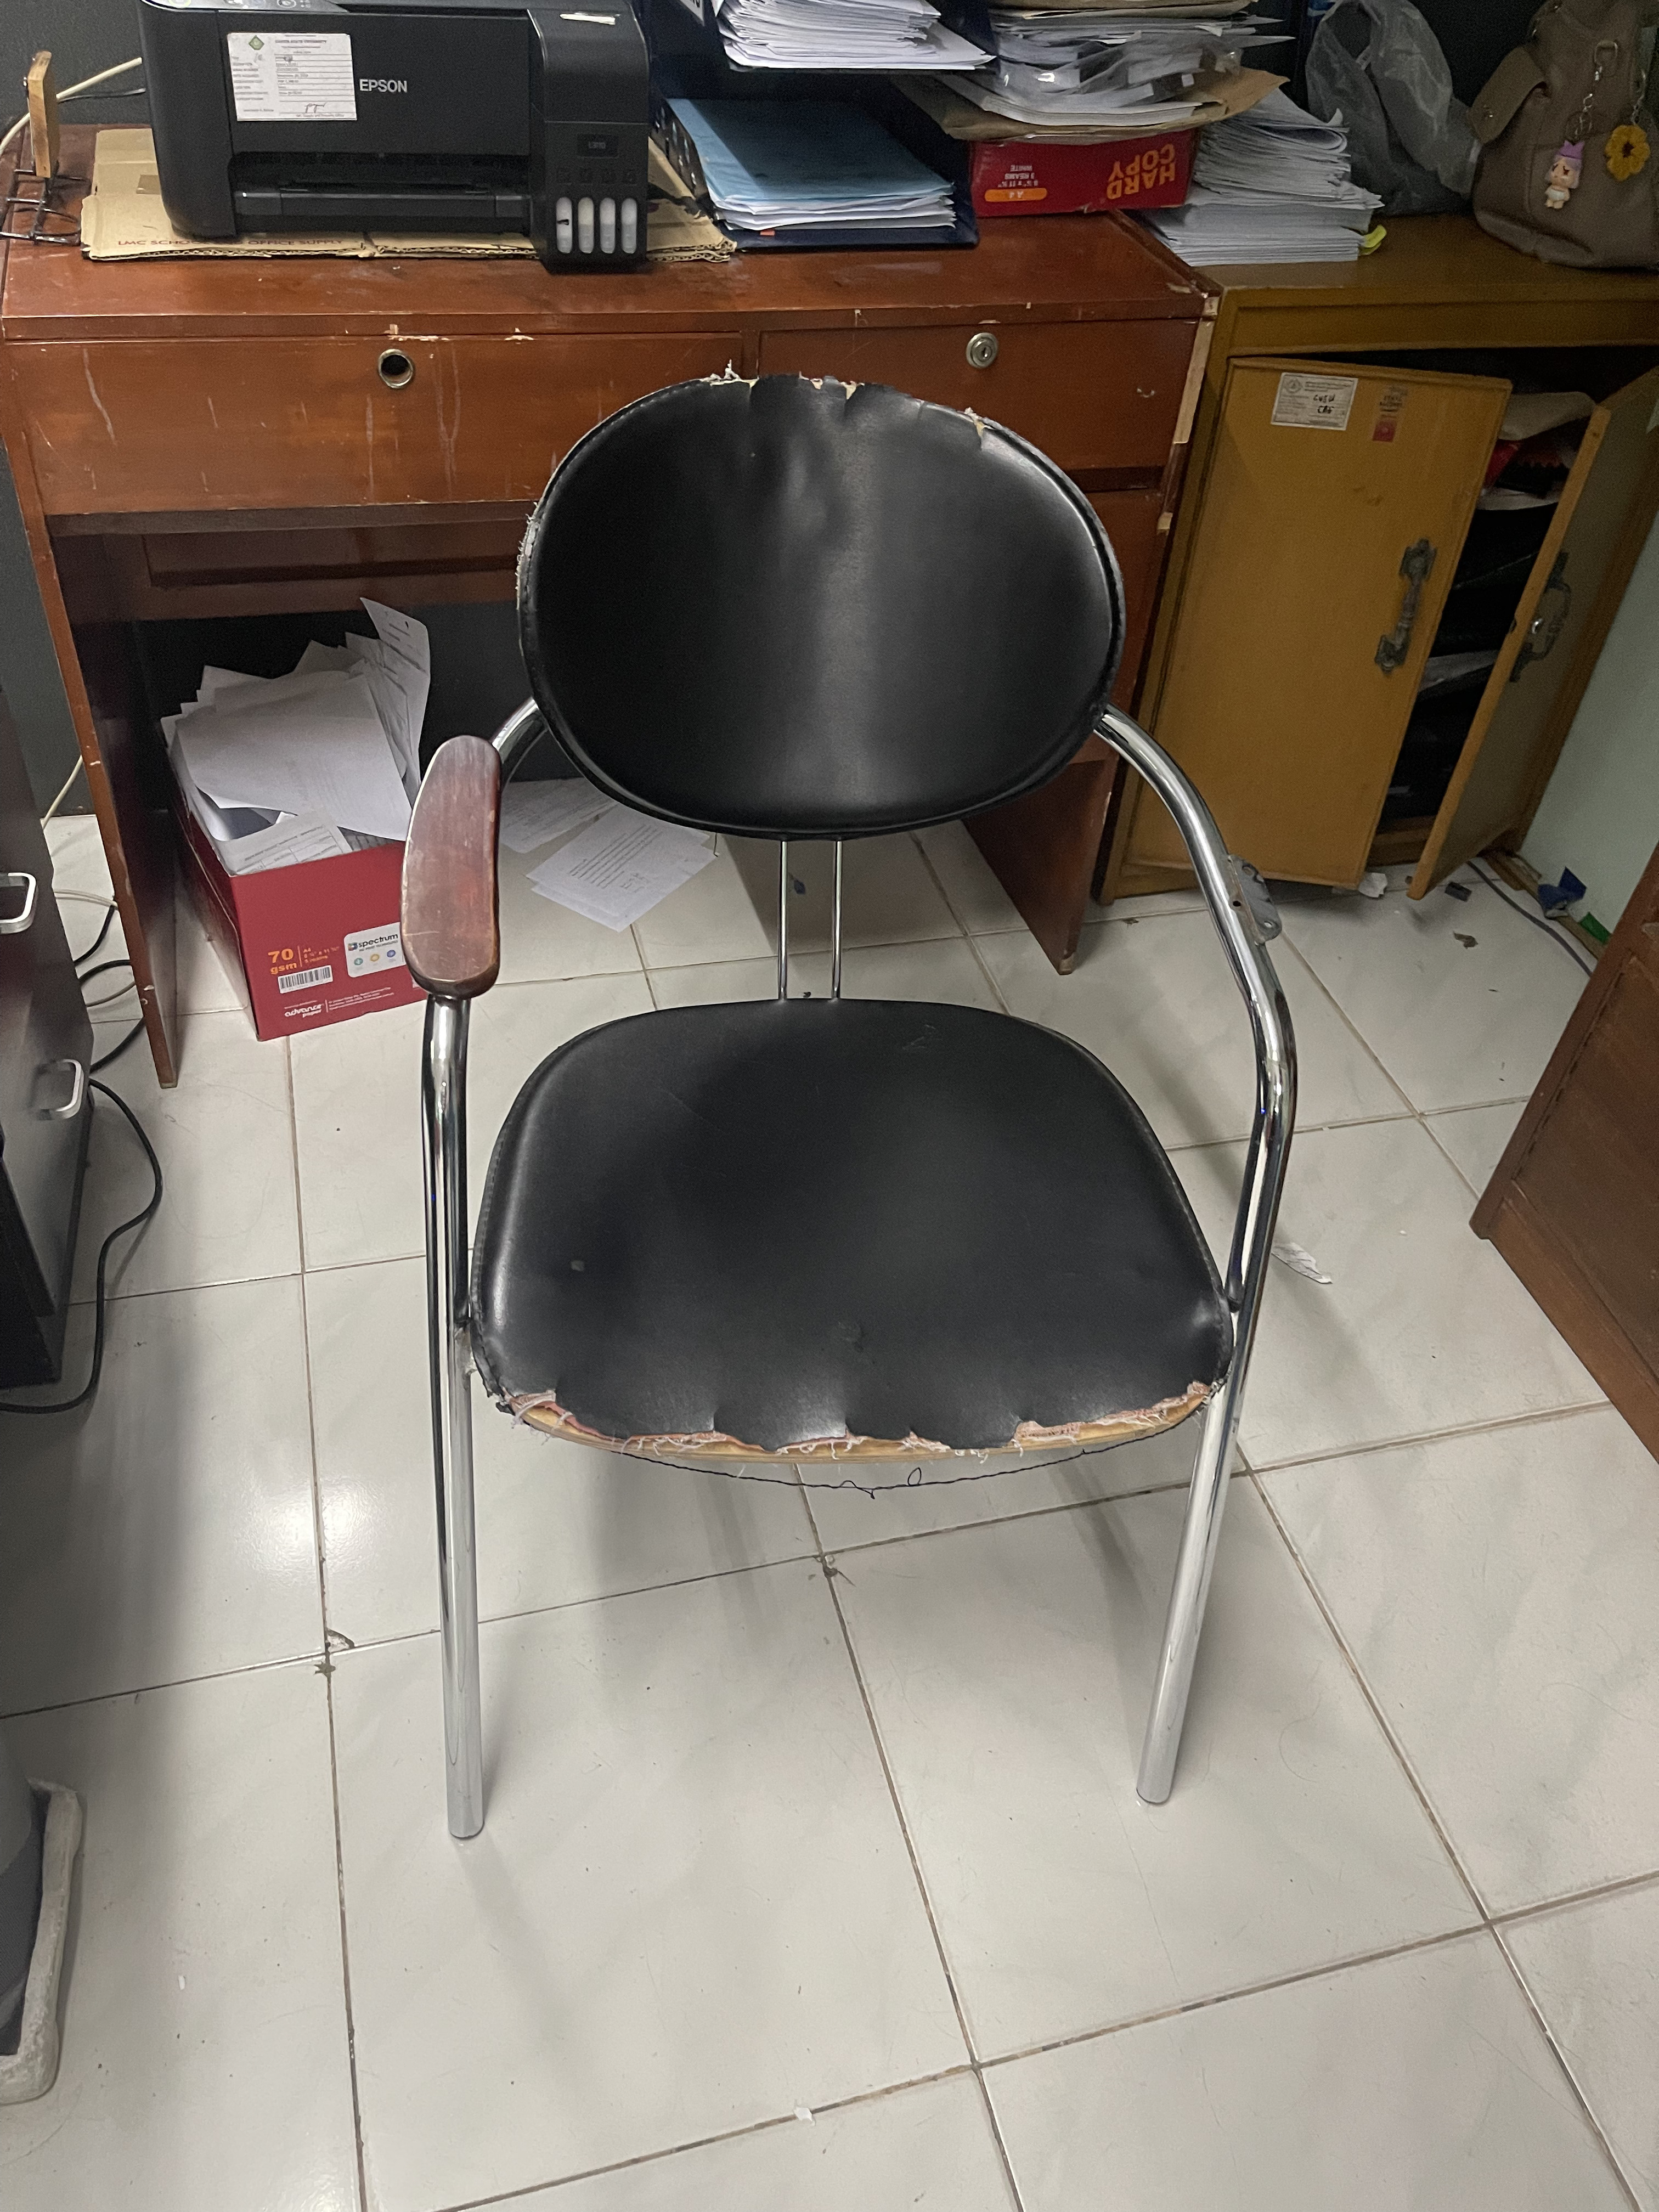chair1: (378, 357, 1304, 1881)
